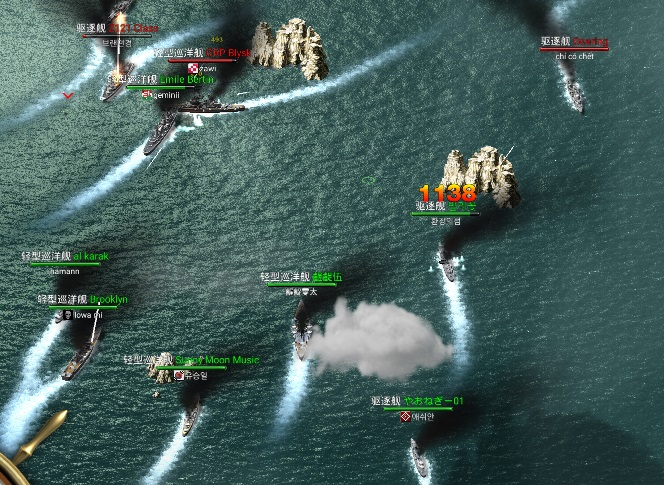ship: (62, 324, 106, 382), (549, 54, 587, 116), (98, 61, 136, 109), (144, 110, 179, 161), (290, 297, 316, 361), (171, 98, 250, 114), (179, 388, 204, 438), (432, 239, 458, 287), (406, 436, 433, 480)
